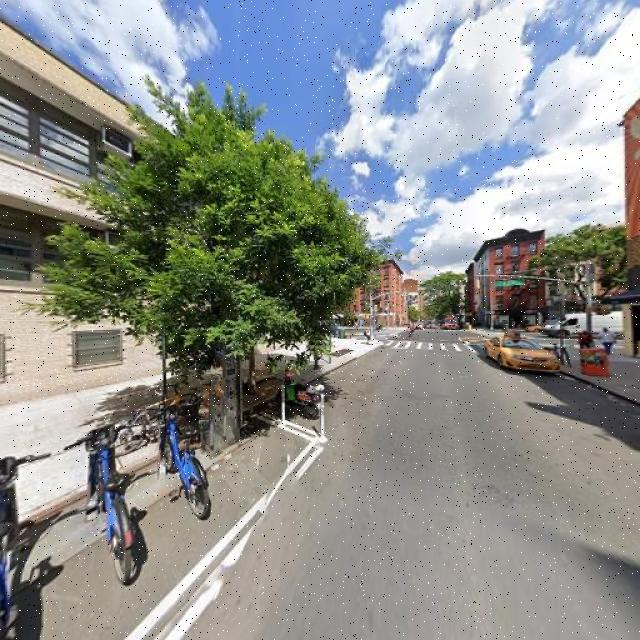Building: (1, 19, 150, 398), (628, 122, 640, 358)
